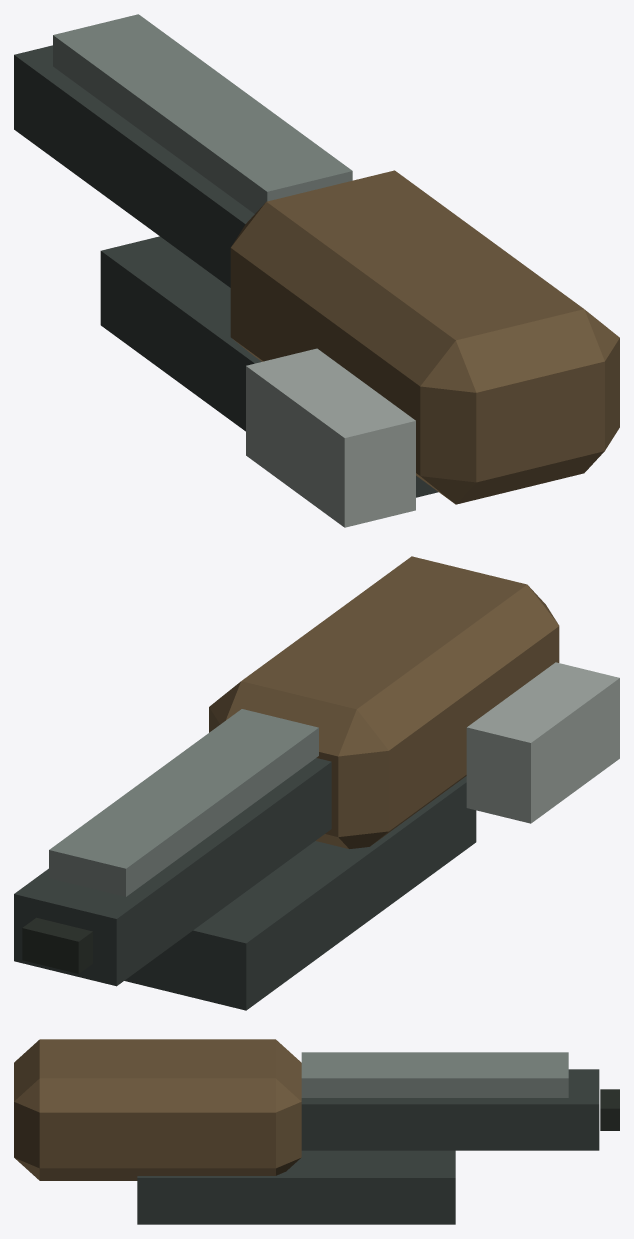
Rendered from militor_weapon.obj.
3 renders of one model, top to bottom at view 1: azimuth 30°, elevation 25°; view 2: azimuth 150°, elevation 25°; view 3: azimuth 270°, elevation 25°, orthographic. The views are drawn at different scales.
Visible parts, largest first — view 1: militor_weapon; view 2: militor_weapon; view 3: militor_weapon.
Boxes of the visible parts, box(x1,y1,x2,y2) form: militor_weapon: box(14, 14, 619, 527); militor_weapon: box(14, 556, 619, 1010); militor_weapon: box(14, 1039, 619, 1224).
Size of the model in its own units: 0.19 by 0.15 by 0.59.
